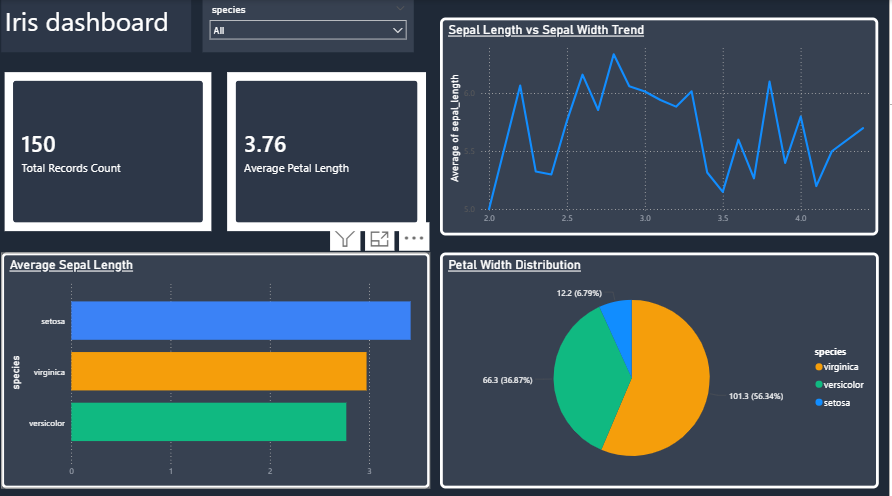

What the dashboard file says about the page in this screenshot:
{"tool":"powerbi","page":{"name":"Page 1","canvas":[1280,720],"ordinal":0},"visuals":[{"type":"clusteredBarChart","title":"Average Sepal Length","fields":{"Category":["1) iris.species"],"Y":["Avg(1) iris.sepal_width)"]},"box":[16,359.5,610.5,336.4],"z":0},{"type":"pieChart","title":"Petal Width Distribution","fields":{"Category":["1) iris.species"],"Y":["Sum(1) iris.petal_width)"]},"box":[640.7,359.5,624.7,336.4],"z":1000},{"type":"textbox","box":[16,0,270.5,74.8],"z":2000},{"type":"lineChart","title":"Sepal Length vs Sepal Width Trend","fields":{"Y":["Avg(1) iris.sepal_length)"],"Category":["1) iris.sepal_width"]},"box":[641.4,24.2,624.4,310],"z":3000},{"type":"cardVisual","fields":{"Data":["Avg(1) iris.petal_length)"]},"box":[332.8,97.9,293.7,236.7],"z":4000},{"type":"cardVisual","fields":{"Data":["CountNonNull(1) iris.species)"]},"box":[16,97.9,304.3,236.7],"z":5000},{"type":"slicer","fields":{"Values":["1) iris.species"]},"box":[302.6,0,300.8,74.8],"z":6000}]}

Visuals, with their boxes in screenshot pixels (x1, y1, x2, y2), scaled from the page's 1280x720 canvas onto the 892x496 screenshot:
"Average Sepal Length" clusteredBarChart: bbox=[11, 248, 437, 479]
"Petal Width Distribution" pieChart: bbox=[446, 248, 882, 479]
textbox: bbox=[11, 0, 200, 52]
"Sepal Length vs Sepal Width Trend" lineChart: bbox=[447, 17, 882, 230]
cardVisual - Avg(1) iris.petal_length): bbox=[232, 67, 437, 231]
cardVisual - CountNonNull(1) iris.species): bbox=[11, 67, 223, 231]
slicer - 1) iris.species: bbox=[211, 0, 420, 52]
